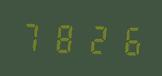eight: (49, 18, 79, 55)
seven: (18, 17, 48, 54)
six: (111, 21, 141, 58)
two: (80, 20, 110, 57)
